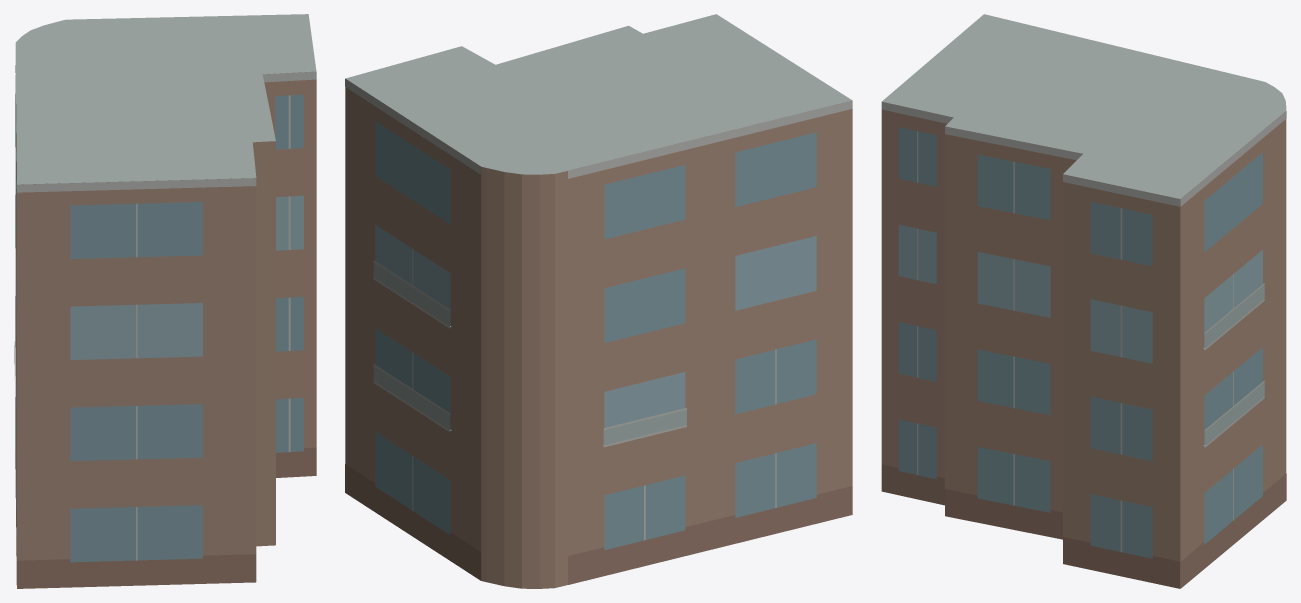
The model's file is survey-upis-32886244.glb.
3 renders of one model, left to right at view 1: azimuth 30°, elevation 25°; view 2: azimuth 150°, elevation 25°; view 3: azimuth 270°, elevation 25°, orthographic. The views are drawn at different scales.
Parts seen in each view (by area): view 1: survey-upis-32886244.tmp; view 2: survey-upis-32886244.tmp; view 3: survey-upis-32886244.tmp.
Boxes of the visible parts, <box> form: survey-upis-32886244.tmp: <box>14,14,316,588</box>; survey-upis-32886244.tmp: <box>345,14,852,588</box>; survey-upis-32886244.tmp: <box>881,14,1286,588</box>.
Size of the model in its own units: 12.43 by 12.2 by 11.49.
